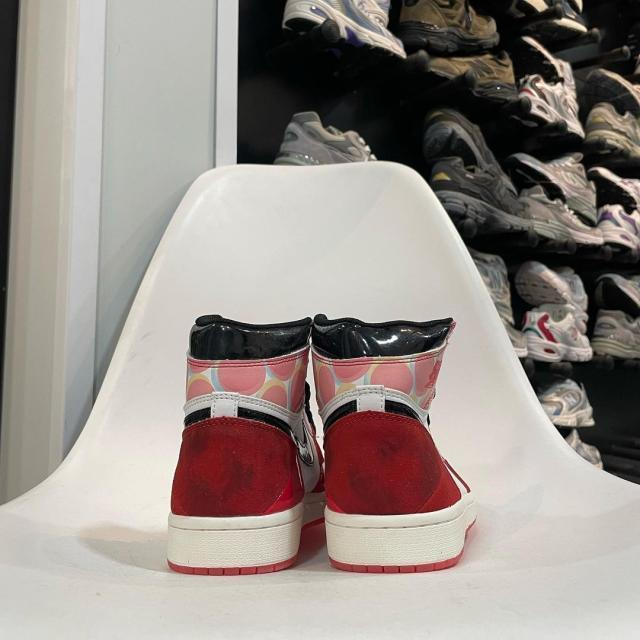nike fake jordan 1: (318, 314, 483, 572), (170, 316, 322, 576)
